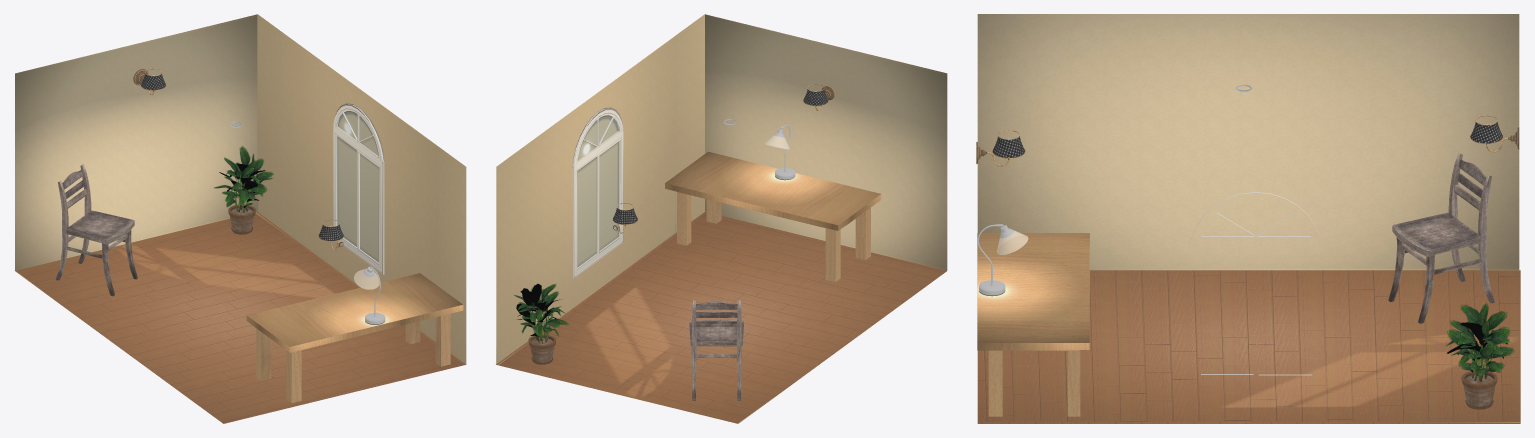
File: room_baked.glb
3 views of the same model, side by side, from view 1: azimuth 30°, elevation 25°; view 2: azimuth 150°, elevation 25°; view 3: azimuth 270°, elevation 25° (orthographic). The views are drawn at different scales.
Parts seen in each view (by area): view 1: Material3 (×4), Material2 (×6); view 2: Material3 (×5), Material2 (×6); view 3: Material3 (×3), Material2 (×8).
Boxes of the visible parts, x1=… form: Material3 (×4): x1=15, y1=14, x2=466, y2=364; Material2 (×6): x1=14, y1=73, x2=465, y2=423; Material3 (×5): x1=496, y1=14, x2=947, y2=364; Material2 (×6): x1=496, y1=89, x2=946, y2=423; Material3 (×3): x1=977, y1=14, x2=1519, y2=409; Material2 (×8): x1=976, y1=115, x2=1520, y2=423.
Size of what is drawn, in the model's own units: 145 by 114 by 216.
21 materials, 15 textured.
